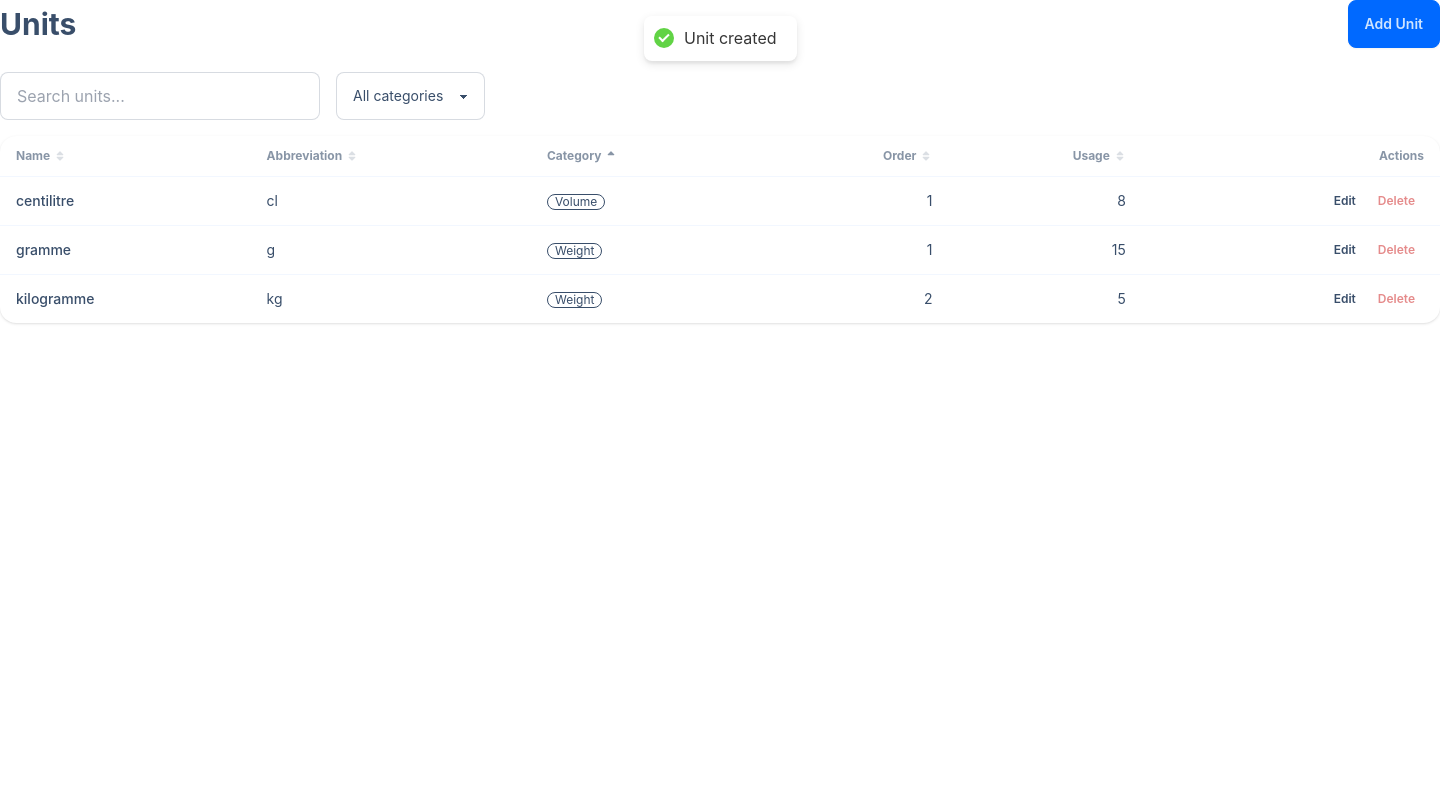
Test: AdminUnitsPage › should open edit modal
The image size is (1440, 810).
Expected: the text "gramme" is shown, [0,226,251,274]
Click the button "Edit" in the row of "centilitre".
click(1345, 201)  # box [1325,189,1365,213]
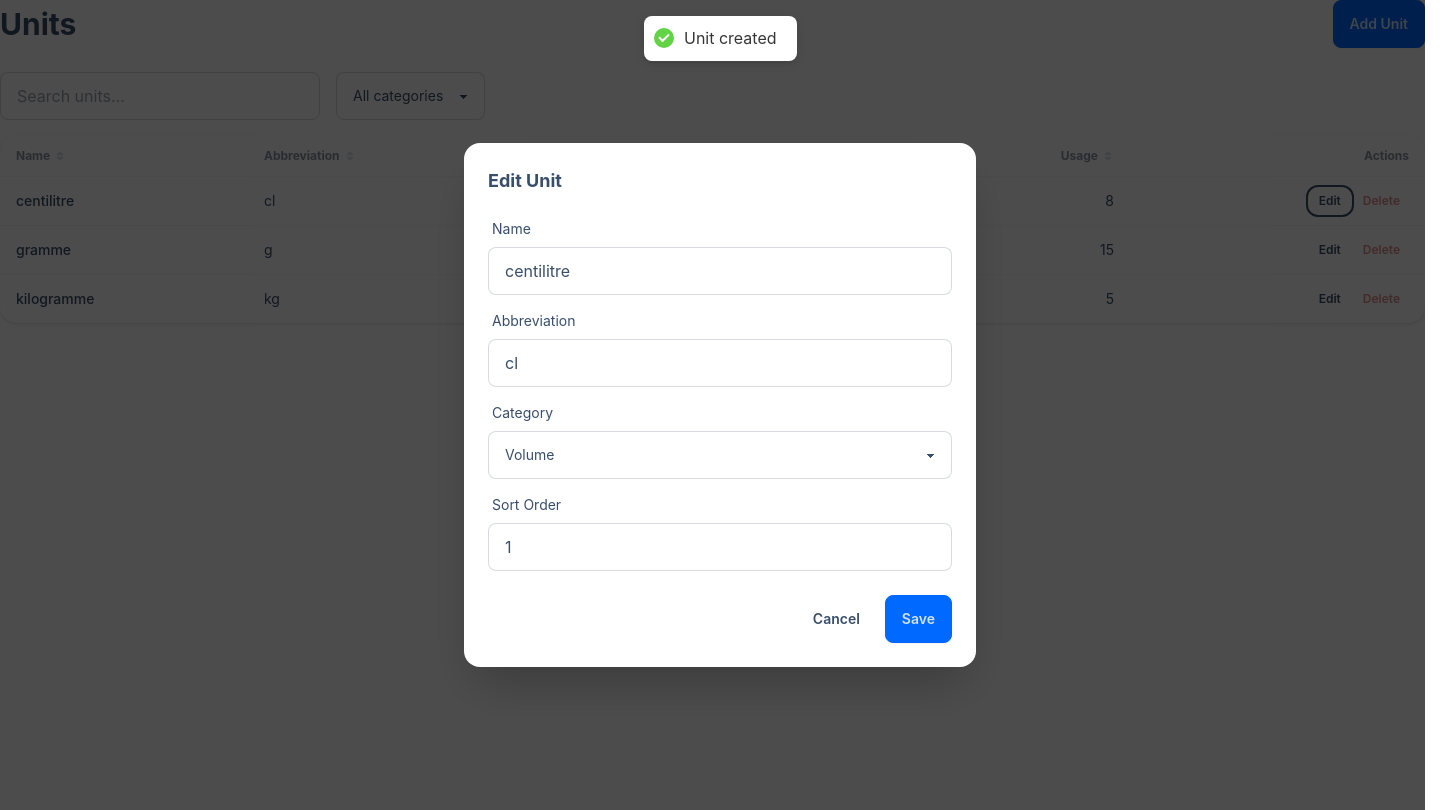
Expected: the heading "Edit Unit" is shown, [488,170,562,191]
